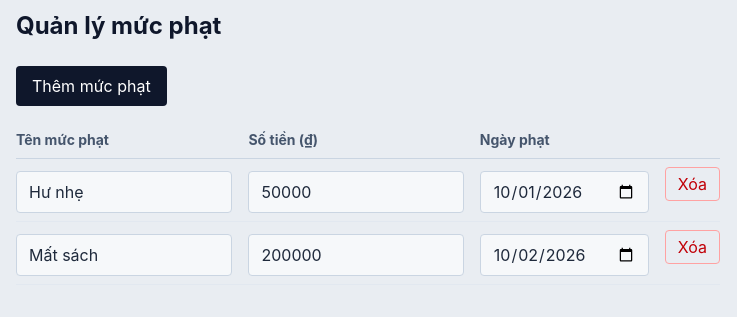
it: FineLevels › shows the server message when the new name is taken
Replace the text in the field named "Tên mức phạt Hư nhẹ" with "Mất sách" at (124, 192), box [16,171,232,213]
Then press Enter
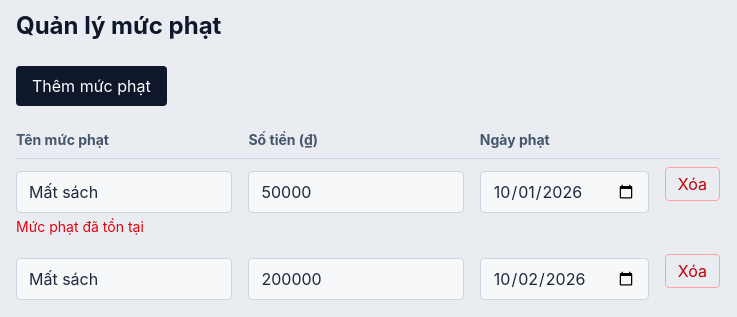
Now the text "Mức phạt đã tồn tại" is shown, box [16,218,144,235]
